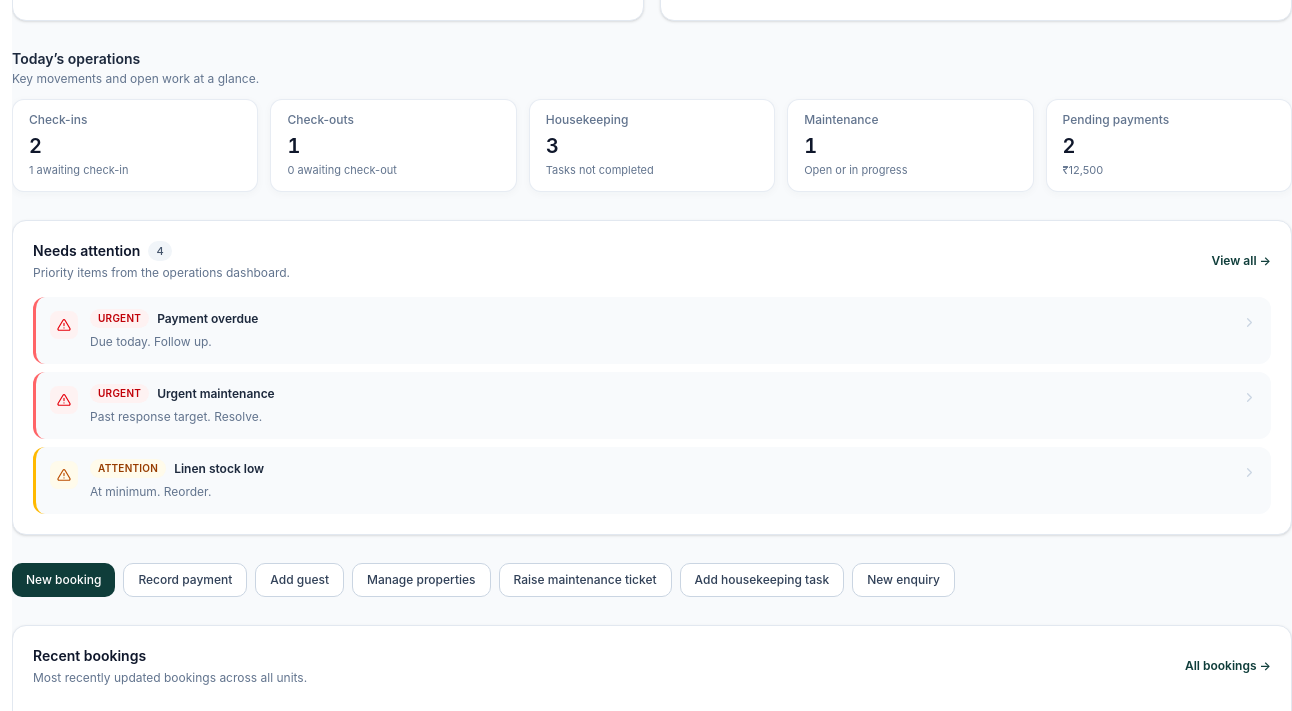
Test: DashboardPage › limits the attention preview, preserves backend severity, and opens the complete list accessibly
(page scrolled)
Expected: the text "Payment overdue" is shown, [157,311,258,327]
Expected: the text "Urgent" is shown 2 times, [90,309,149,328]; [90,384,149,403]
Click the button "View all →" at (1241, 261), box [1212,253,1271,269]
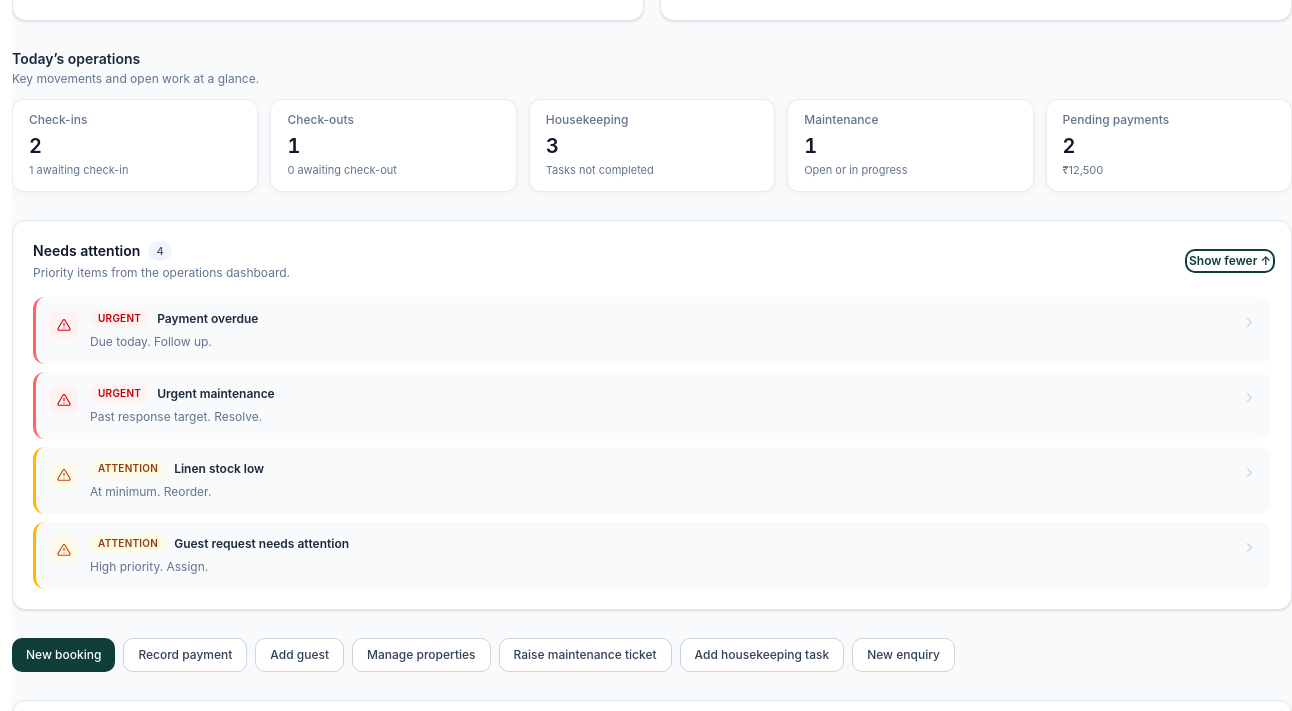
Expected: the text "Guest request needs attention" is shown, [174,536,349,552]
Expected: the button "Show fewer ↑" is expanded, [1189,253,1271,269]
